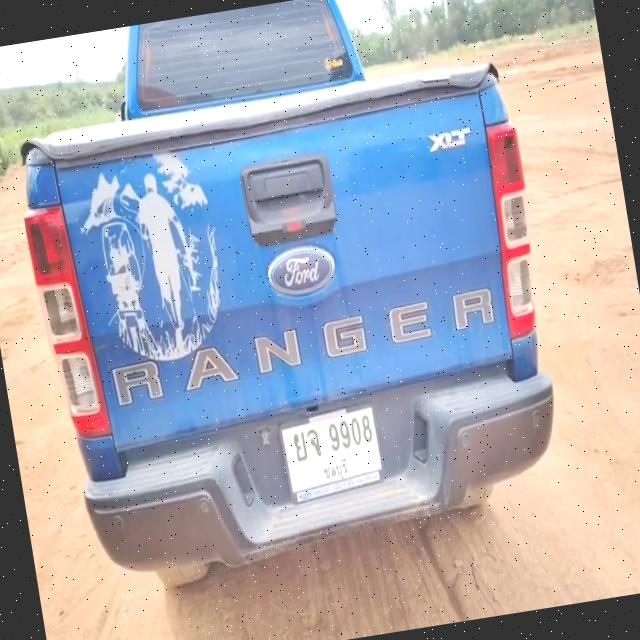Digit: (327, 413, 376, 454)
Licenseplate: (276, 401, 389, 504)
Provincename: (322, 456, 352, 486)
Thaichar: (292, 424, 322, 462)
